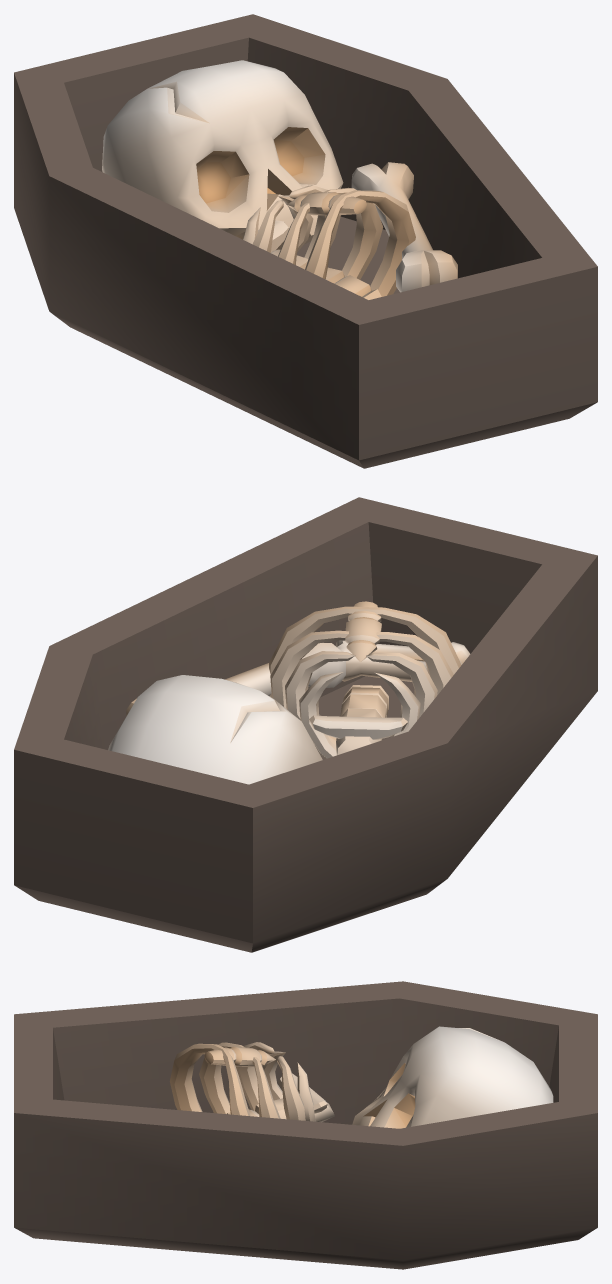
The model's file is coffin_decorated.obj.
3 renders of one model, top to bottom at view 1: azimuth 30°, elevation 25°; view 2: azimuth 150°, elevation 25°; view 3: azimuth 270°, elevation 25°, orthographic. The views are drawn at different scales.
Visible parts, largest first — view 1: coffin_decorated_Cube.536; view 2: coffin_decorated_Cube.536; view 3: coffin_decorated_Cube.536.
Boxes of the visible parts, x1=… form: coffin_decorated_Cube.536: x1=14, y1=14, x2=597, y2=468; coffin_decorated_Cube.536: x1=14, y1=497, x2=597, y2=952; coffin_decorated_Cube.536: x1=14, y1=981, x2=597, y2=1269.
Size of the model in its own units: 2 by 0.9025 by 3.
Materials: 1 (1 with a texture image).
